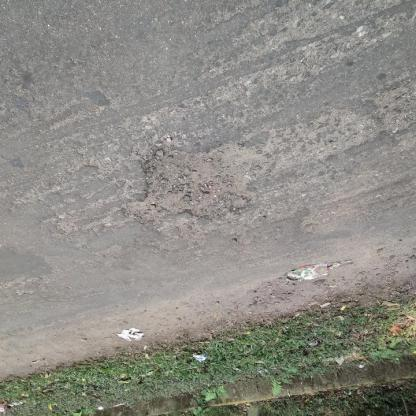pothole: (121, 143, 264, 225)
